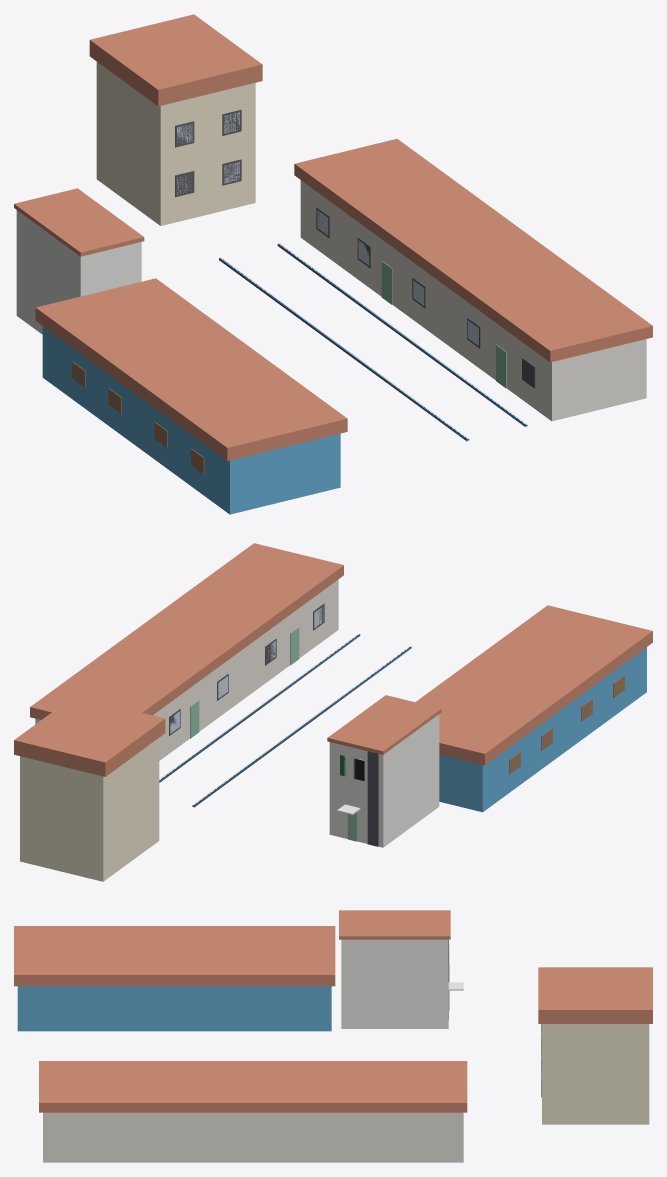
The model's file is Environment_Buildings_Baru.fbx.
3 views of the same model, one above another, from view 1: azimuth 30°, elevation 25°; view 2: azimuth 150°, elevation 25°; view 3: azimuth 270°, elevation 25° (orthographic). The views are drawn at different scales.
Parts seen in each view (by area): view 1: Gedung_Seberang_Gang, Gedung_Panjang_PAUD, Gedung_Ujung_Gang, Gedung_Balai_RW_3, Kanstin_Gang; view 2: Gedung_Seberang_Gang, Gedung_Panjang_PAUD, Gedung_Ujung_Gang, Gedung_Balai_RW_3, Kanstin_Gang; view 3: Gedung_Seberang_Gang, Gedung_Panjang_PAUD, Gedung_Ujung_Gang, Gedung_Balai_RW_3.
Part boxes in pixels (x1=…): Gedung_Seberang_Gang: x1=294, y1=139, x2=652, y2=421; Gedung_Panjang_PAUD: x1=35, y1=278, x2=347, y2=514; Gedung_Ujung_Gang: x1=89, y1=14, x2=262, y2=225; Gedung_Balai_RW_3: x1=14, y1=188, x2=144, y2=334; Kanstin_Gang: x1=219, y1=243, x2=527, y2=441; Gedung_Seberang_Gang: x1=30, y1=543, x2=343, y2=760; Gedung_Panjang_PAUD: x1=415, y1=605, x2=652, y2=812; Gedung_Ujung_Gang: x1=14, y1=696, x2=165, y2=881; Gedung_Balai_RW_3: x1=327, y1=695, x2=441, y2=847; Kanstin_Gang: x1=159, y1=634, x2=411, y2=807; Gedung_Seberang_Gang: x1=39, y1=1061, x2=467, y2=1162; Gedung_Panjang_PAUD: x1=14, y1=926, x2=335, y2=1031; Gedung_Ujung_Gang: x1=538, y1=967, x2=652, y2=1124; Gedung_Balai_RW_3: x1=339, y1=910, x2=463, y2=1028.
Size of the model in its own units: 27.84 by 8.41 by 41.76.
11 materials, 2 textured.
